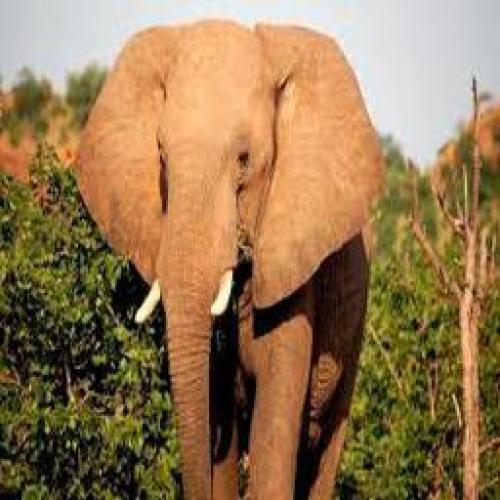african_elephant-endangered: (69, 19, 387, 496)
